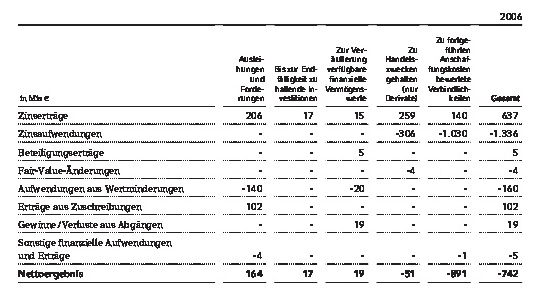table: (0, 0, 541, 296)
